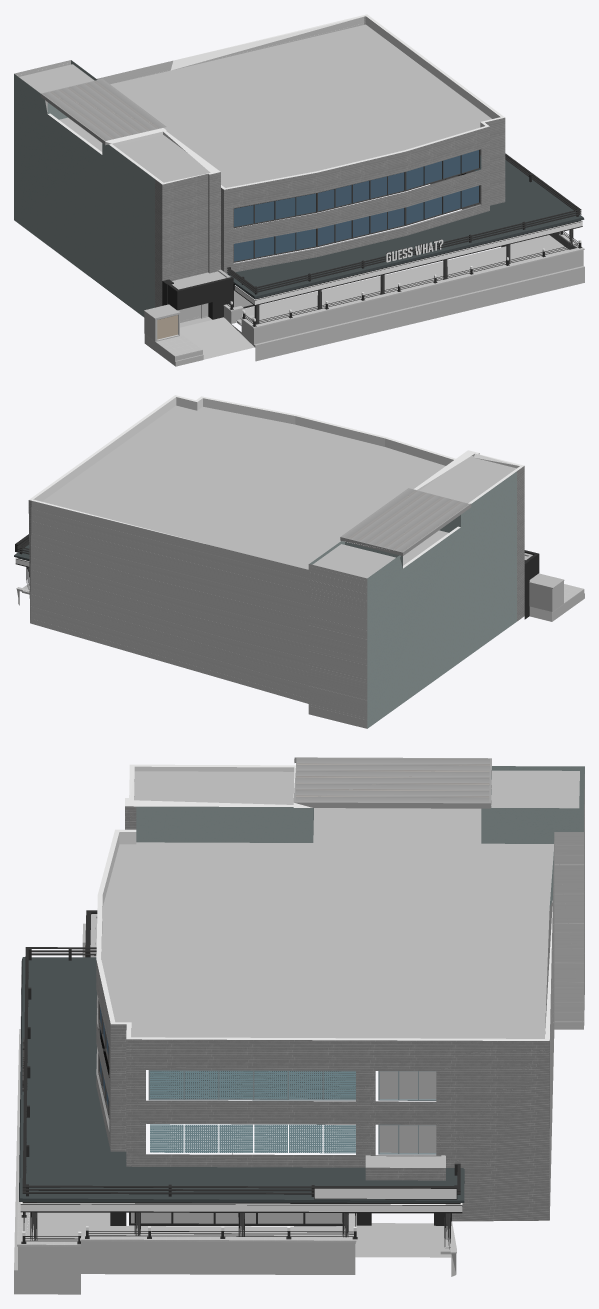
The model's file is lowGAL_1.fbx.
3 renders of one model, top to bottom at view 1: azimuth 30°, elevation 25°; view 2: azimuth 150°, elevation 25°; view 3: azimuth 270°, elevation 25°, orthographic. The views are drawn at different scales.
Parts seen in each view (by area): view 1: Group_9412__1_, Group_9391, Group_9441, Group_10095, Group_9429, Group_9187, Group_9359, Group_9361, Group_9363, Group_10093; view 2: Group_9412__1_, Group_9187; view 3: Group_9412__1_, Group_9391, Group_10096, Group_9713, Group_9433, Group_9711, Group_9393, Group_9359, 창문17x30_3_9, 창문17x30_3_1, Group_9363, Group_9361.
Boxes of the visible parts, <box> form: Group_9412__1_: <box>14,14,584,366</box>; Group_9391: <box>227,155,584,305</box>; Group_9441: <box>233,149,480,228</box>; Group_10095: <box>233,185,480,262</box>; Group_9429: <box>180,317,254,359</box>; Group_9187: <box>144,304,180,341</box>; Group_9359: <box>227,153,581,288</box>; Group_9361: <box>227,155,581,290</box>; Group_9363: <box>227,158,581,292</box>; Group_10093: <box>386,239,443,262</box>; Group_9412__1_: <box>16,395,584,728</box>; Group_9187: <box>529,573,564,611</box>; Group_9412__1_: <box>14,757,584,1294</box>; Group_9391: <box>19,957,464,1213</box>; Group_10096: <box>150,1124,355,1153</box>; Group_9713: <box>150,1071,355,1099</box>; Group_9433: <box>129,1212,348,1226</box>; Group_9711: <box>148,1070,355,1100</box>; Group_9393: <box>314,1186,457,1199</box>; Group_9359: <box>22,947,460,1188</box>; 창문17x30_3_9: <box>378,1124,436,1154</box>; 창문17x30_3_1: <box>378,1071,436,1100</box>; Group_9363: <box>22,953,460,1194</box>; Group_9361: <box>22,950,460,1191</box>.
Size of the model in its own units: 2531 by 985 by 2019.
